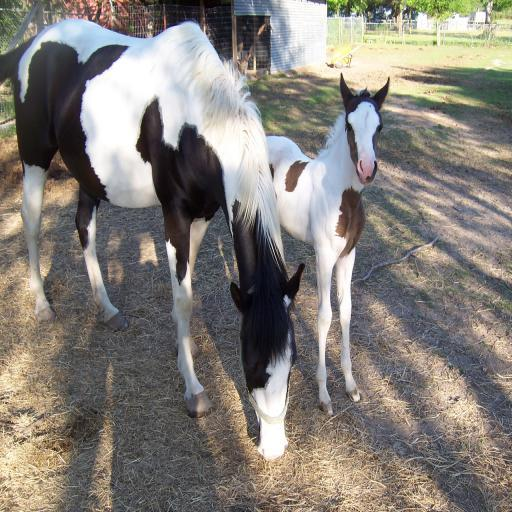Horse: (0, 22, 309, 460), (266, 71, 390, 414)
